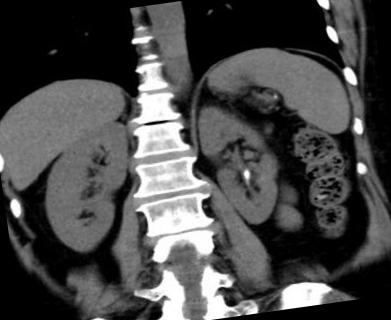Tas_Var: (241, 168, 250, 182)
